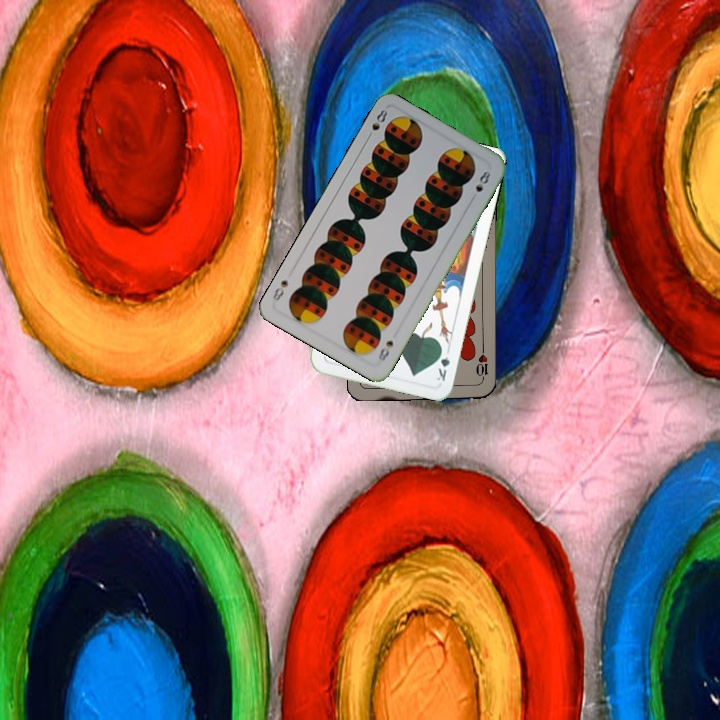GK: (432, 344, 453, 384)
H10: (472, 344, 491, 384)
S8: (363, 105, 390, 142), (374, 336, 396, 367)
